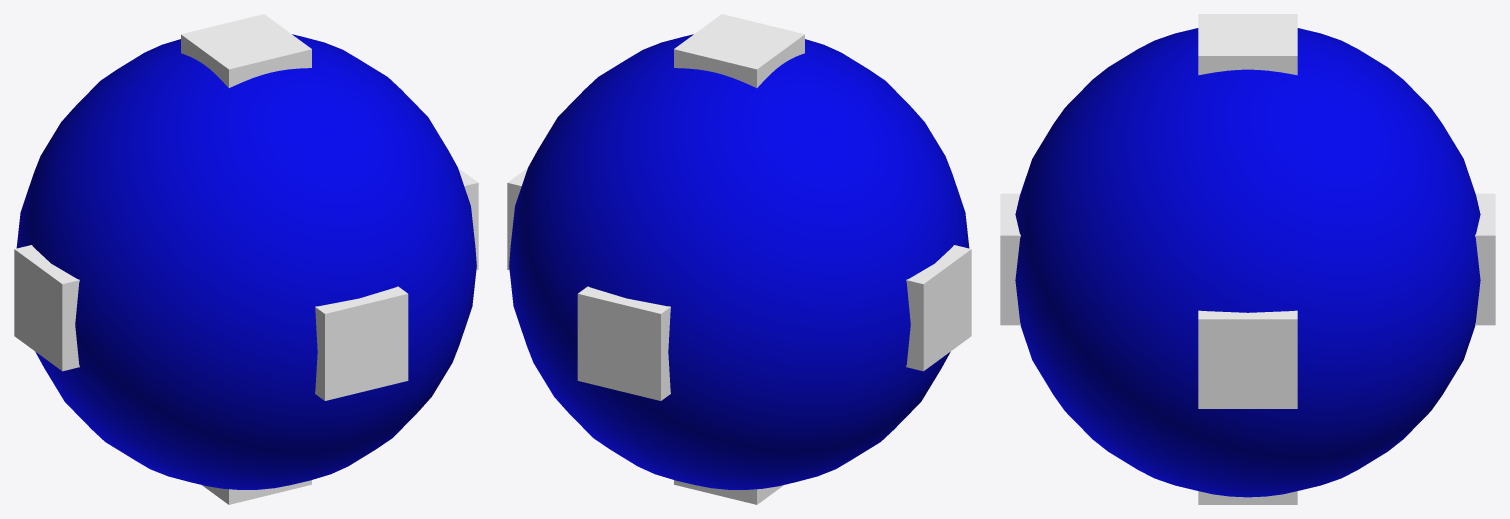
File: Knerpix Ball.fbx
3 renders of one model, left to right at view 1: azimuth 30°, elevation 25°; view 2: azimuth 150°, elevation 25°; view 3: azimuth 270°, elevation 25°, orthographic. The views are drawn at different scales.
Visible parts, largest first — view 1: Sphere; view 2: Sphere; view 3: Sphere.
Boxes of the visible parts, left/top/right/bottom form: Sphere: left=14, top=14, right=478, bottom=504; Sphere: left=507, top=14, right=971, bottom=504; Sphere: left=1000, top=14, right=1495, bottom=504.
Size of the model in its own units: 2 by 2 by 2.
